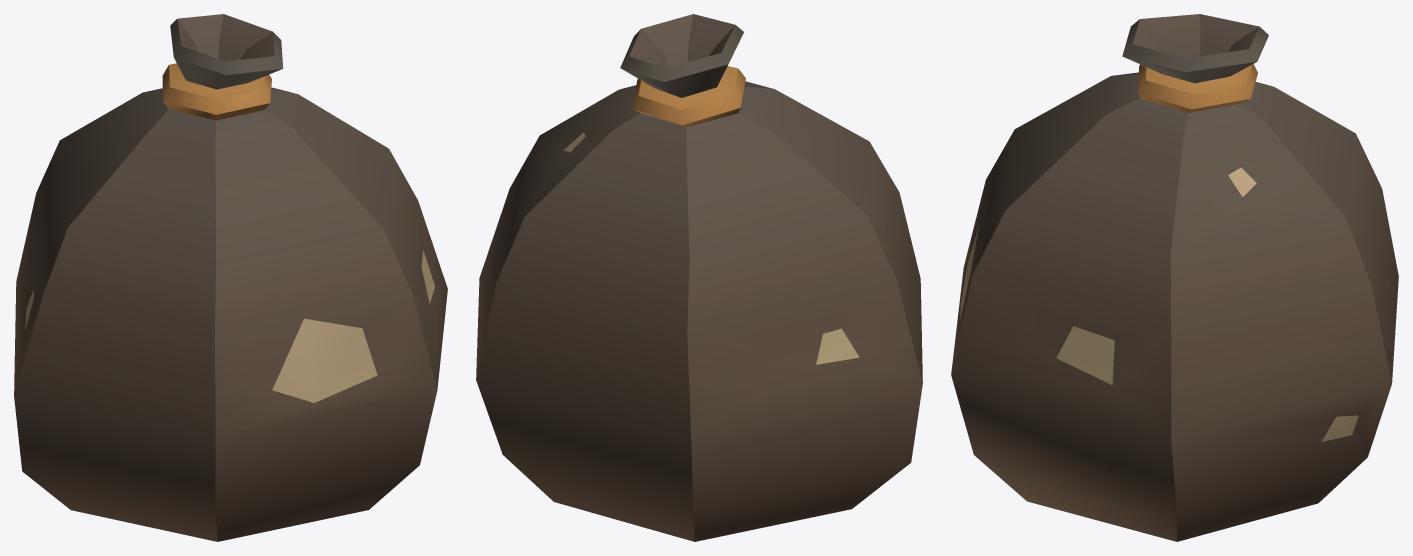
Rendered from Bag_1_E.glb.
The picture shows the model from 3 angles, left to right: view 1: azimuth 30°, elevation 25°; view 2: azimuth 150°, elevation 25°; view 3: azimuth 270°, elevation 25°; orthographic projection. The views are drawn at different scales.
Parts seen in each view (by area): view 1: Bag_1_E; view 2: Bag_1_E; view 3: Bag_1_E.
Boxes of the visible parts, x1,y1,x2,y2 form: Bag_1_E: (14, 14, 447, 541); Bag_1_E: (476, 14, 922, 541); Bag_1_E: (951, 14, 1398, 541).
Size of the model in its own units: 0.8127 by 0.767 by 0.708.
1 material, 1 textured.
